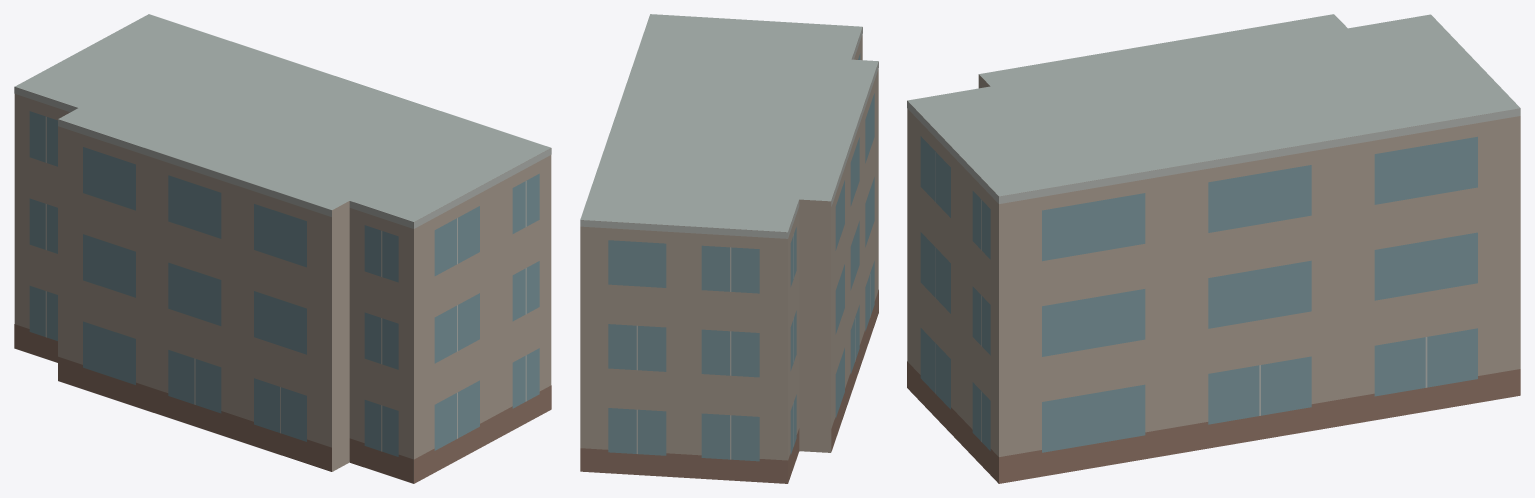
Rendered from survey-upis-32698479.glb.
The picture shows the model from 3 angles, left to right: view 1: azimuth 30°, elevation 25°; view 2: azimuth 150°, elevation 25°; view 3: azimuth 270°, elevation 25°; orthographic projection. The views are drawn at different scales.
Visible parts, largest first — view 1: survey-upis-32698479.tmp; view 2: survey-upis-32698479.tmp; view 3: survey-upis-32698479.tmp.
Boxes of the visible parts, box(x1,y1,x2,y2) form: survey-upis-32698479.tmp: box(14, 14, 551, 483); survey-upis-32698479.tmp: box(580, 14, 878, 483); survey-upis-32698479.tmp: box(907, 14, 1520, 483).
Bounding box in the file's own units: 12.47 × 9.15 × 17.71.
